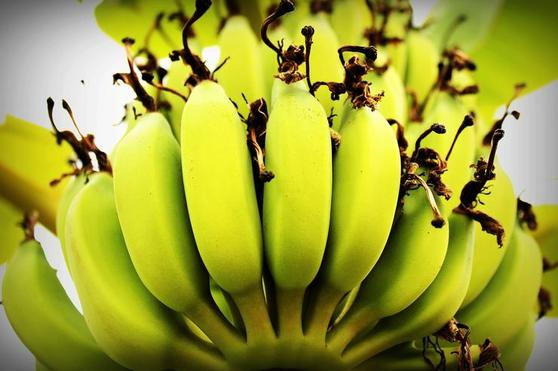banana: (51, 161, 180, 367), (172, 82, 272, 293), (117, 108, 195, 327), (259, 81, 335, 302), (332, 94, 400, 311)
